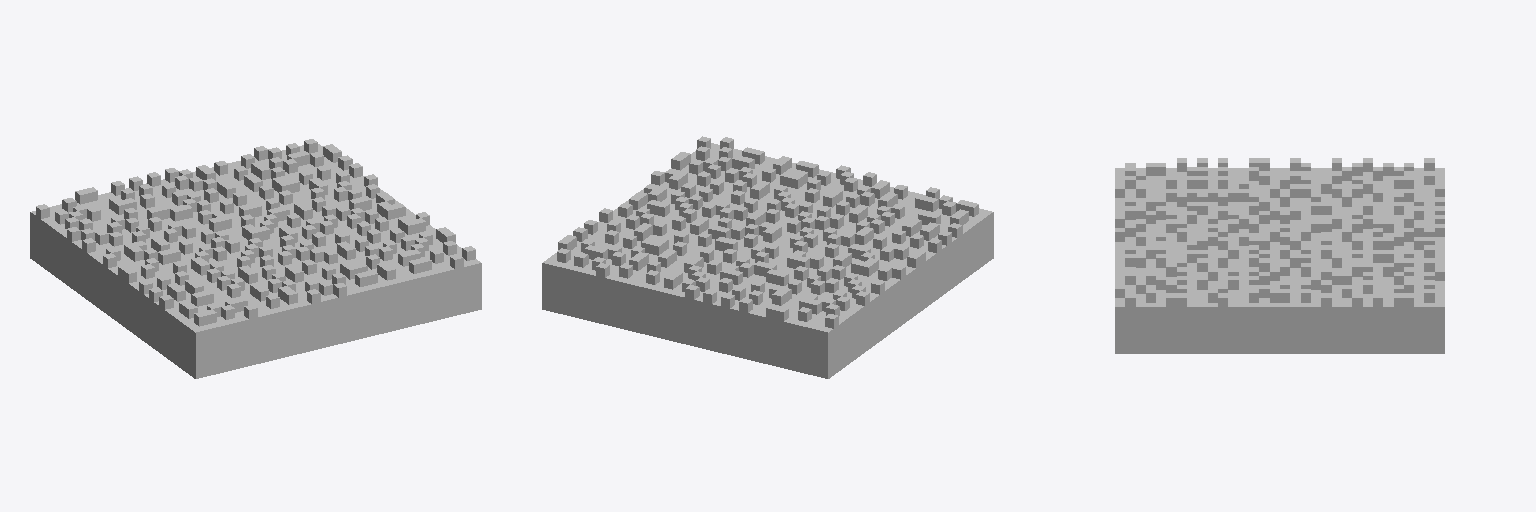
Rendered from Plaines Map-41.obj.
3 renders of one model, left to right at view 1: azimuth 30°, elevation 25°; view 2: azimuth 150°, elevation 25°; view 3: azimuth 270°, elevation 25°, orthographic.
Visible parts, largest first — view 1: object 1; view 2: object 1; view 3: object 1.
Boxes of the visible parts, x1=… form: object 1: x1=30, y1=139, x2=481, y2=378; object 1: x1=542, y1=136, x2=993, y2=378; object 1: x1=1115, y1=158, x2=1444, y2=353.
Bounding box in the file's own units: 3.2 × 0.6 × 3.2.